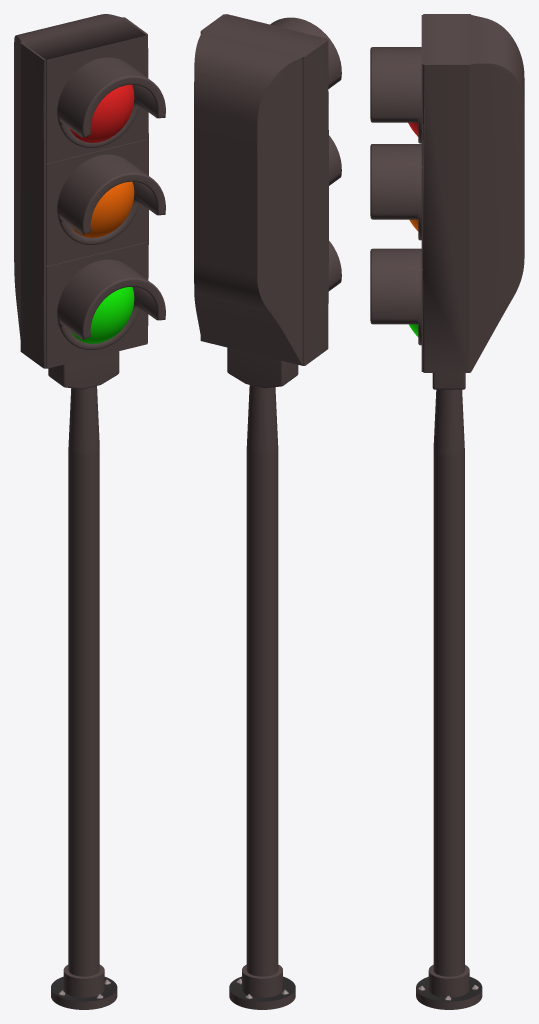
The picture shows the model from 3 angles, left to right: view 1: azimuth 30°, elevation 25°; view 2: azimuth 150°, elevation 25°; view 3: azimuth 270°, elevation 25°; orthographic projection.
Visible parts, largest first — view 1: Box002, Cylinder001, Tube004, Tube007, Tube006, OilTank001, Box001, OilTank003, OilTank002, Object002_Material #29_0, Object001_Material #26_0; view 2: Box002, Cylinder001, Box001, Tube006, Object002_Material #29_0, Object001_Material #26_0, Tube007, Tube004; view 3: Box002, Cylinder001, Tube007, Tube006, Tube004, Object002_Material #29_0, Object001_Material #26_0, Box001.
Boxes of the visible parts, x1,y1,x2,y2 form: Box002: [14, 14, 148, 368]; Cylinder001: [63, 386, 104, 997]; Tube004: [57, 154, 165, 244]; Tube007: [57, 259, 165, 350]; Tube006: [57, 57, 165, 147]; OilTank001: [70, 84, 134, 142]; Box001: [48, 351, 119, 389]; OilTank003: [71, 287, 134, 343]; OilTank002: [71, 181, 134, 237]; Object002_Material #29_0: [51, 989, 117, 1009]; Object001_Material #26_0: [51, 976, 117, 1001]; Box002: [194, 14, 328, 365]; Cylinder001: [242, 385, 282, 997]; Box001: [227, 347, 298, 388]; Tube006: [270, 17, 341, 88]; Object002_Material #29_0: [229, 989, 295, 1009]; Object001_Material #26_0: [229, 976, 295, 1001]; Tube007: [328, 241, 341, 291]; Tube004: [329, 135, 341, 185]; Box002: [421, 14, 524, 372]; Cylinder001: [428, 389, 469, 997]; Tube007: [370, 248, 421, 345]; Tube006: [370, 47, 421, 143]; Tube004: [370, 144, 421, 240]; Object002_Material #29_0: [416, 989, 482, 1009]; Object001_Material #26_0: [416, 976, 482, 1001]; Box001: [432, 373, 465, 389].
Bounding box in the file's own units: 1.65 × 14.4 × 2.1.
